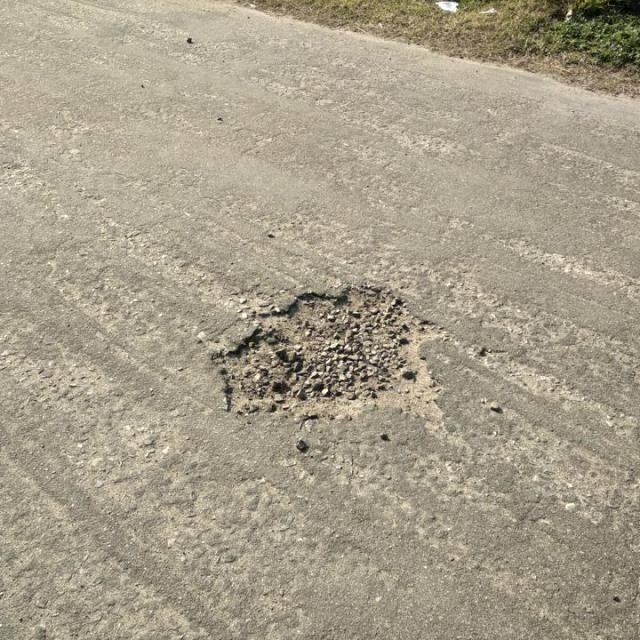Pothole: (208, 281, 451, 420)
